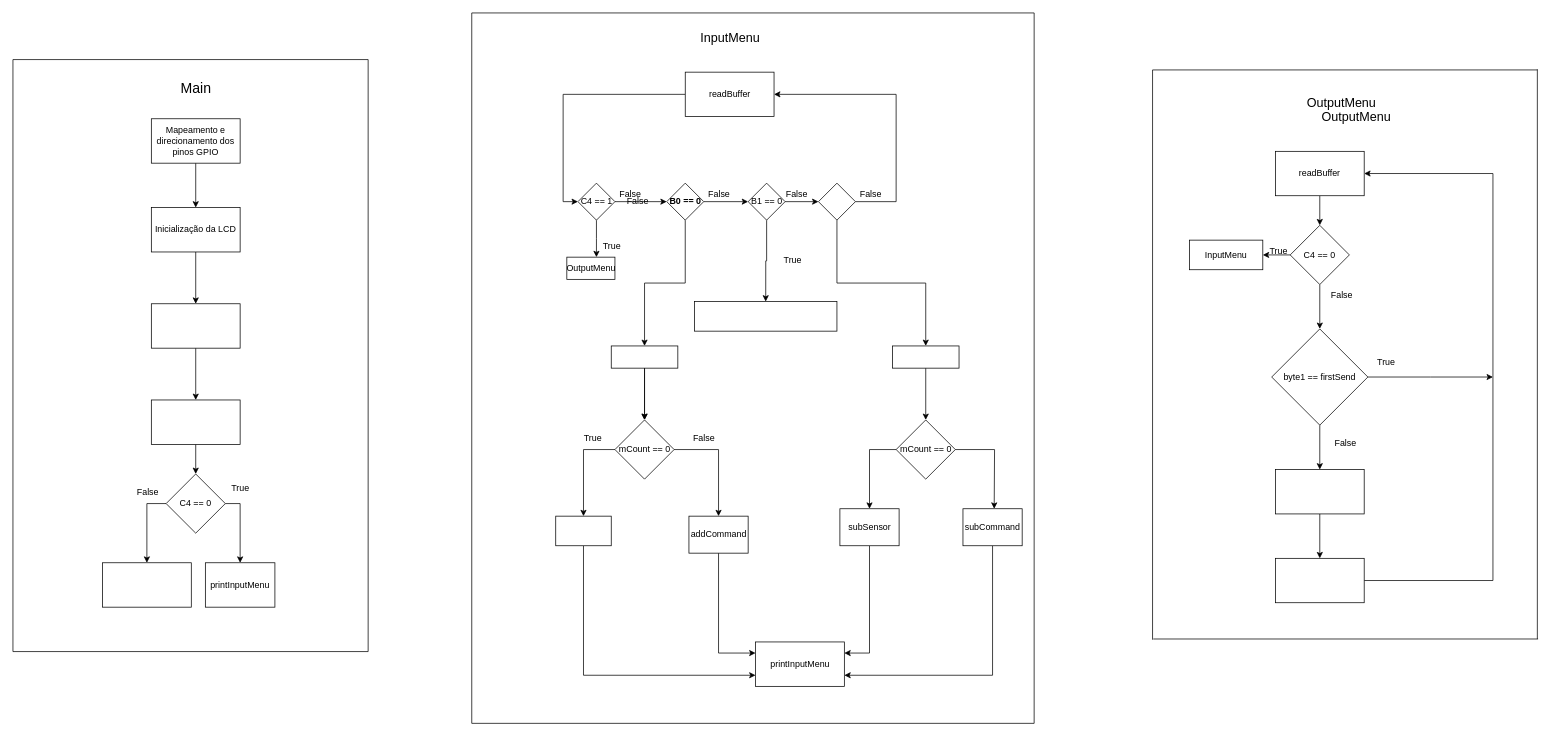
Some shapes in this 1552 by 737 pixel diagram are drawn without their labels. The centre of each missing label's shape, as x and y in pixels:
"addCount" goes at (x=644, y=356).
"addSensor" goes at (x=583, y=530).
"B2 == 0" goes at (x=836, y=201).
"confirm" goes at (x=765, y=316).
"finishSingleAnswer" goes at (x=1319, y=580).
"Inicialização da UART" goes at (x=195, y=421).
"Mapeamento UART e define os pinos de TX e RX" goes at (x=195, y=325).
"singleAnswer" goes at (x=146, y=584).
"singleAnswer2" goes at (x=1319, y=491).
"subCount" goes at (x=925, y=356).
